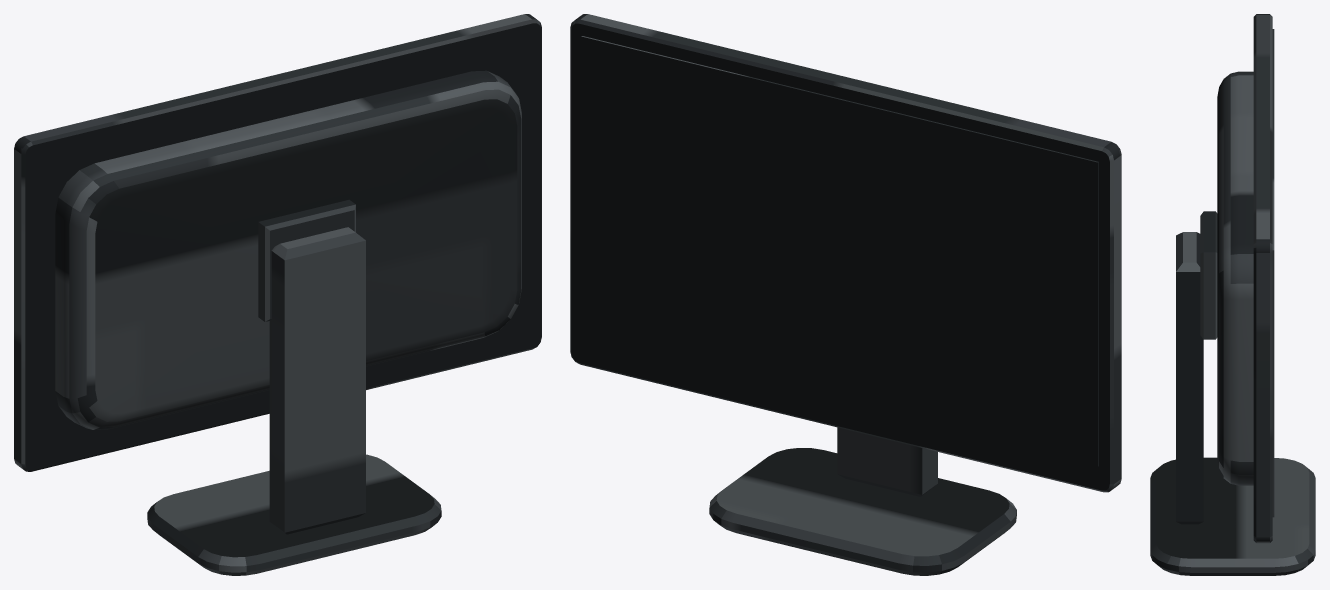
The model's file is modern_lcd_monitor.obj.
The picture shows the model from 3 angles, left to right: view 1: azimuth 30°, elevation 25°; view 2: azimuth 150°, elevation 25°; view 3: azimuth 270°, elevation 25°; orthographic projection. The views are drawn at different scales.
Parts seen in each view (by area): view 1: monitor_rear_housing, monitor_bezel, monitor_neck, monitor_base, monitor_hinge; view 2: monitor_screen, monitor_bezel, monitor_base, monitor_neck; view 3: monitor_rear_housing, monitor_base, monitor_bezel, monitor_neck, monitor_hinge, monitor_screen.
Part boxes in pixels (x1,y1,x2,y2): monitor_rear_housing: [55, 70, 521, 429]; monitor_bezel: [14, 14, 541, 471]; monitor_neck: [269, 227, 365, 534]; monitor_base: [147, 454, 441, 575]; monitor_hinge: [258, 199, 355, 321]; monitor_screen: [581, 36, 1098, 466]; monitor_bezel: [570, 14, 1121, 492]; monitor_base: [709, 448, 1016, 575]; monitor_neck: [837, 427, 937, 496]; monitor_rear_housing: [1217, 71, 1253, 485]; monitor_base: [1150, 457, 1315, 575]; monitor_bezel: [1253, 14, 1272, 543]; monitor_neck: [1176, 232, 1203, 524]; monitor_hinge: [1200, 211, 1217, 339]; monitor_screen: [1272, 29, 1274, 517].
Bounding box in the file's own units: 1 × 0.7969 × 0.3.
